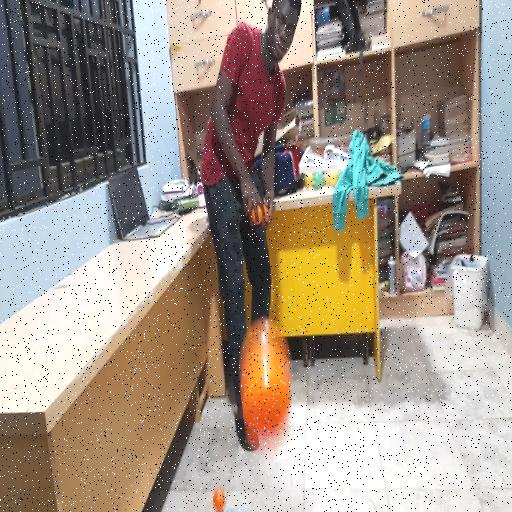plastic-ball: (236, 310, 295, 456)
